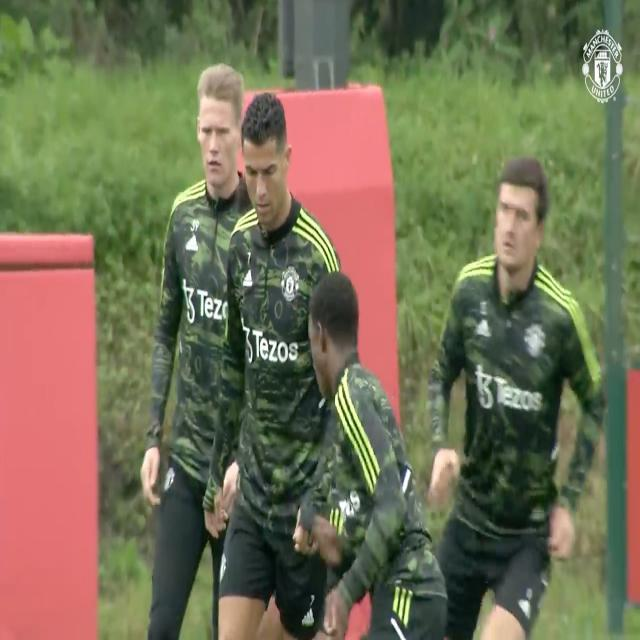Adidas: (477, 317, 490, 336), (302, 611, 316, 628), (186, 234, 199, 252), (243, 268, 253, 288)
